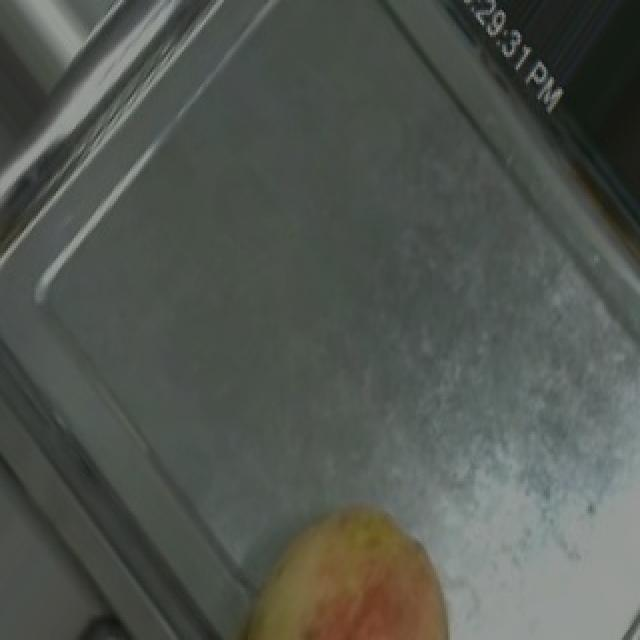Fruit: (214, 466, 490, 640)
